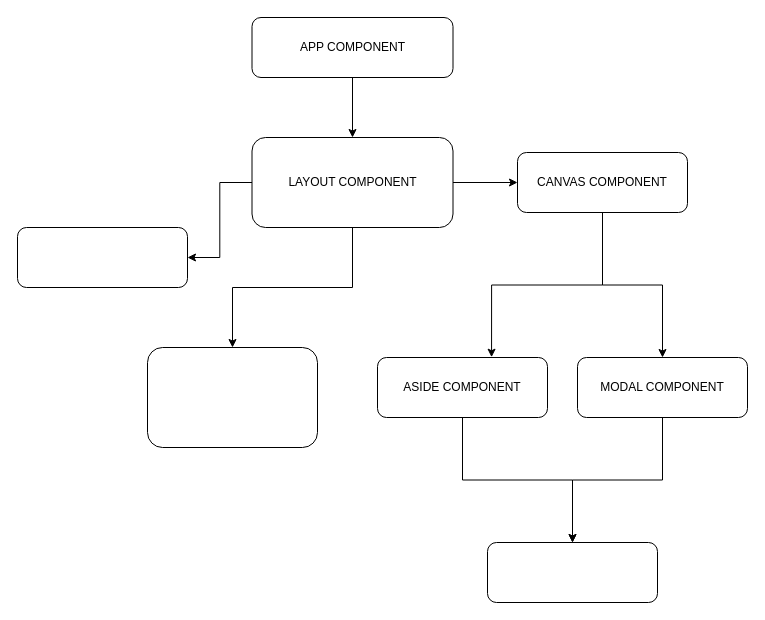
This 765x620 diagram has some shape labels left out. Each missing label, with the centre of its shape:
"CAROUSEL ROUTER" goes at [572,572].
"HEADER COMPONENT Titulo Select fechas" goes at [232,397].
"MENU COMPONENT" goes at [102,257].
